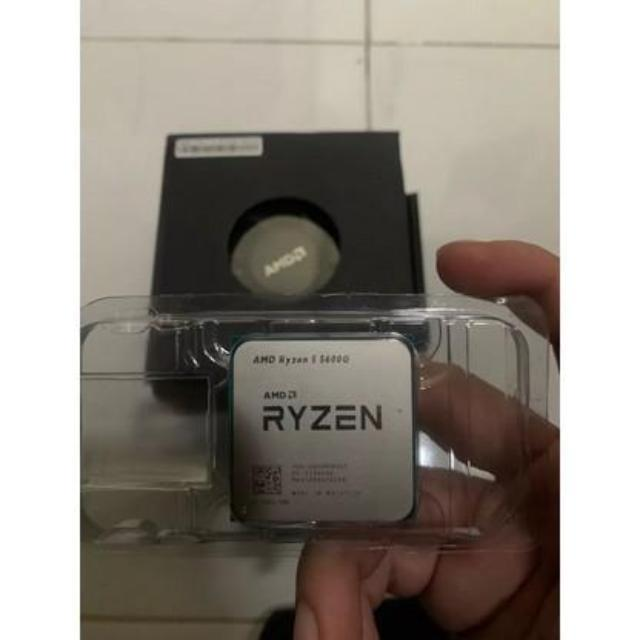CPU: (228, 337, 418, 531)
